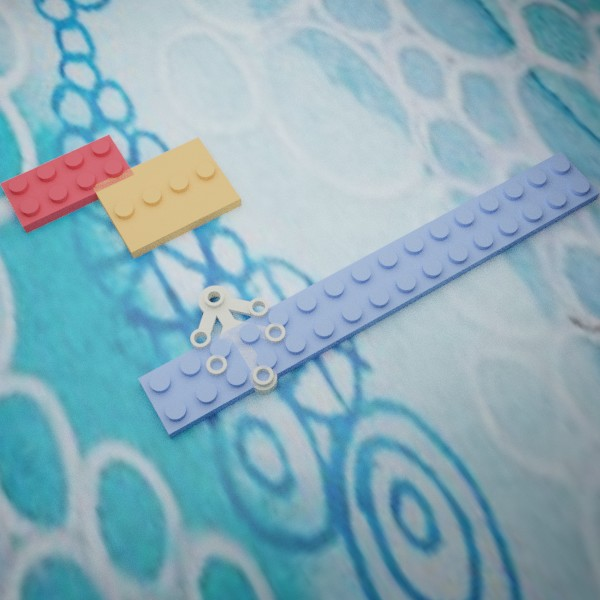lego: (137, 151, 600, 438), (92, 136, 241, 258), (0, 134, 136, 233), (190, 285, 285, 395)
